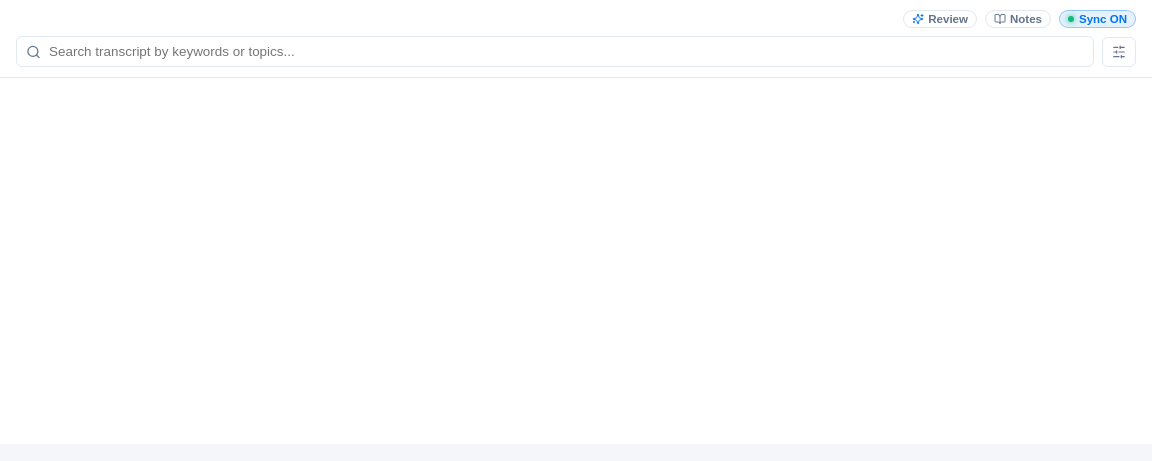
Test: TranscriptSearch › opens AI Review drawer when Review button is clicked
The width and height of the screenshot is (1152, 461).
Click the button with aria-label "AI Transcript Review".
click(940, 19)  # box [903, 10, 977, 28]
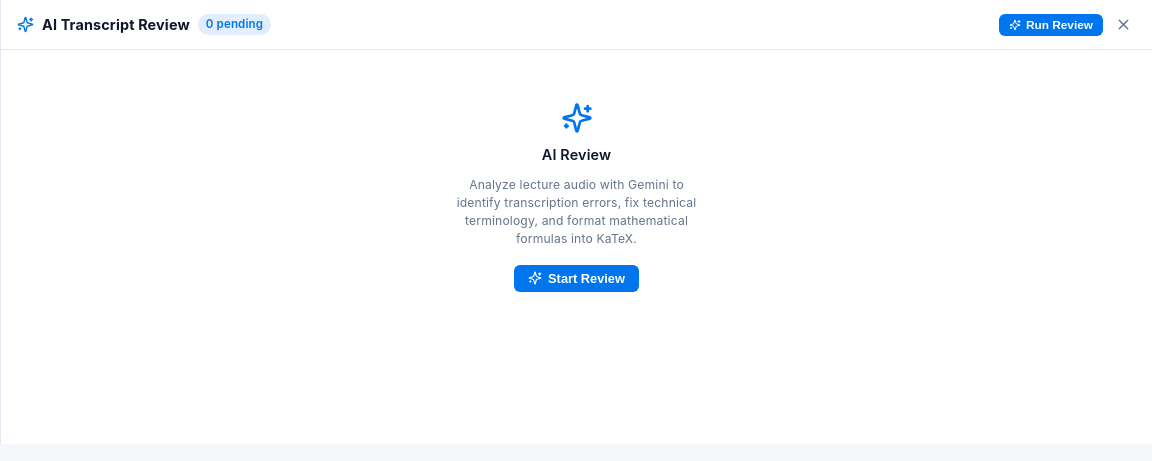
Expected: the text "AI Transcript Review" is shown, [42, 14, 190, 35]
